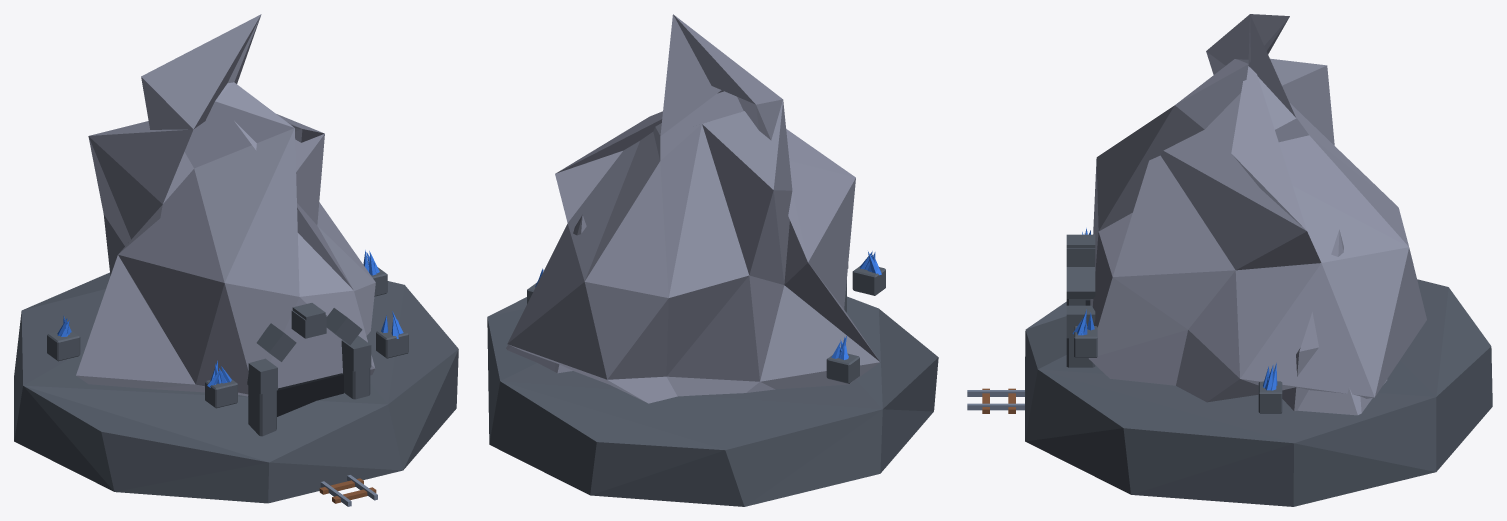
The model's file is SM_Mountain_Sapphire.fbx.
3 renders of one model, left to right at view 1: azimuth 30°, elevation 25°; view 2: azimuth 150°, elevation 25°; view 3: azimuth 270°, elevation 25°, orthographic. The views are drawn at different scales.
Parts seen in each view (by area): view 1: SM_Mountain_Sapphire; view 2: SM_Mountain_Sapphire; view 3: SM_Mountain_Sapphire.
Part boxes in pixels (<box>): SM_Mountain_Sapphire: <box>14,14,458,506</box>; SM_Mountain_Sapphire: <box>487,14,938,506</box>; SM_Mountain_Sapphire: <box>967,14,1492,506</box>.
Bounding box in the file's own units: 10.07 × 9.53 × 11.09.
